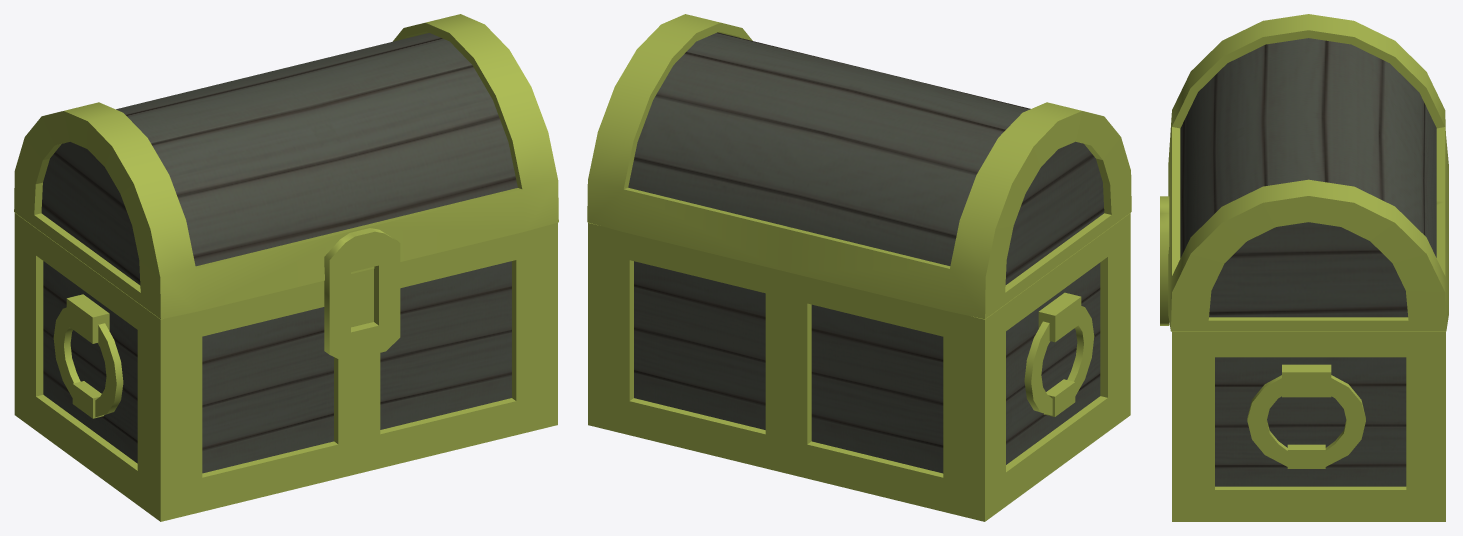
File: 2water_3.fbx
3 renders of one model, left to right at view 1: azimuth 30°, elevation 25°; view 2: azimuth 150°, elevation 25°; view 3: azimuth 270°, elevation 25°, orthographic. The views are drawn at different scales.
Visible parts, largest first — view 1: Object030, Object025; view 2: Object025, Object030; view 3: Object030, Object025.
Boxes of the visible parts, x1,y1,x2,y2 form: Object030: (14,14,558,361); Object025: (14,213,557,521); Object025: (588,213,1130,521); Object030: (587,14,1131,319); Object030: (1160,14,1448,331); Object025: (1172,331,1445,521).
Size of the model in its own units: 66.74 by 42.78 by 53.27.
Materials: 1 (1 with a texture image).
